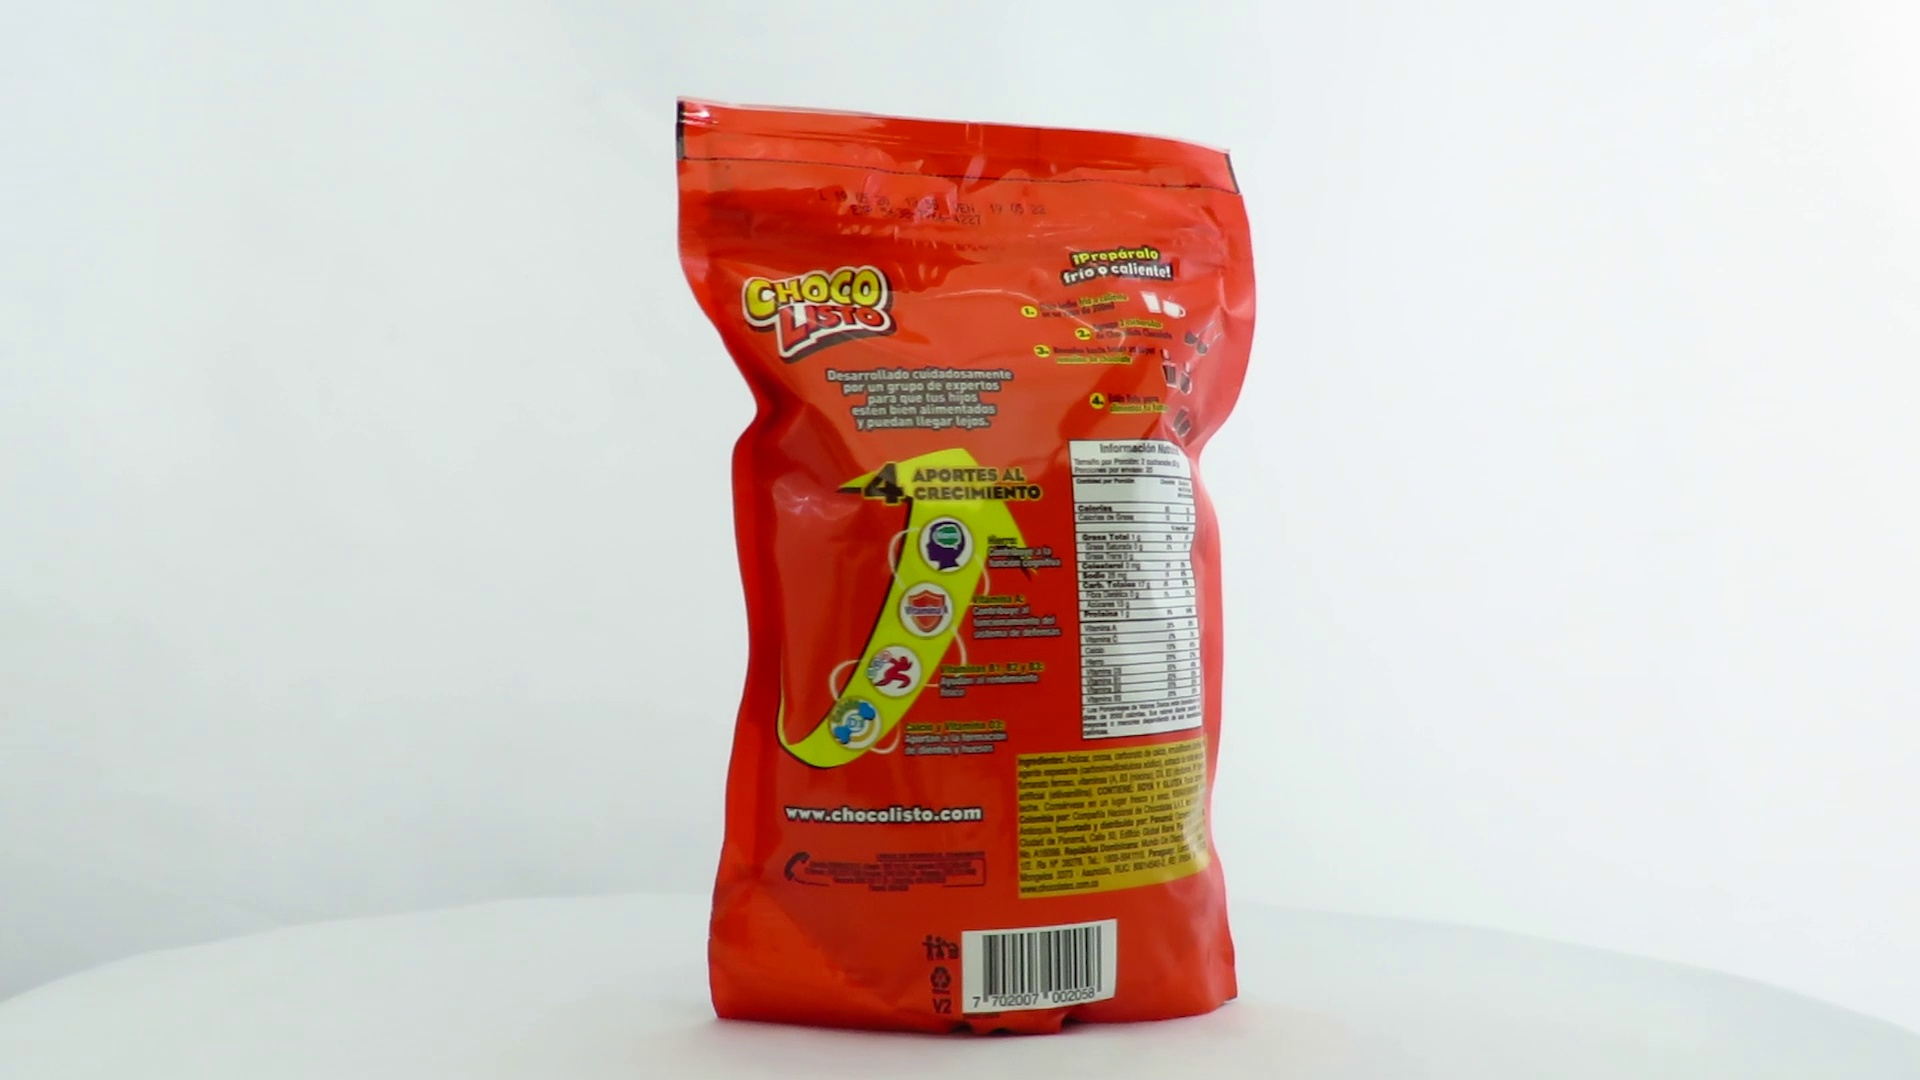COL0170103DYP40000: (671, 90, 1262, 1047)
